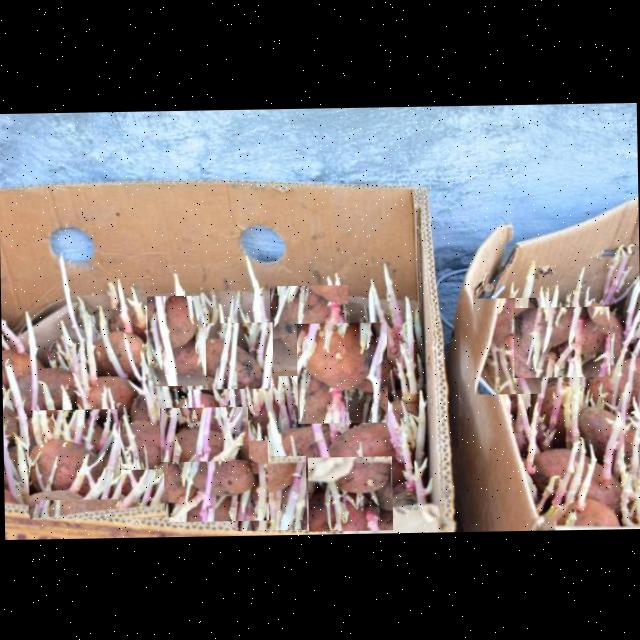Sprouted potato: (295, 320, 387, 422), (308, 408, 419, 486), (26, 408, 120, 500), (522, 430, 636, 502), (167, 439, 267, 521), (268, 284, 348, 374), (512, 304, 609, 378), (1, 331, 88, 412), (27, 468, 164, 518), (472, 296, 542, 393), (306, 455, 392, 530), (69, 305, 156, 374), (185, 321, 272, 388), (232, 454, 306, 530), (146, 294, 206, 385), (158, 405, 248, 461), (133, 443, 204, 506), (575, 391, 640, 455)
